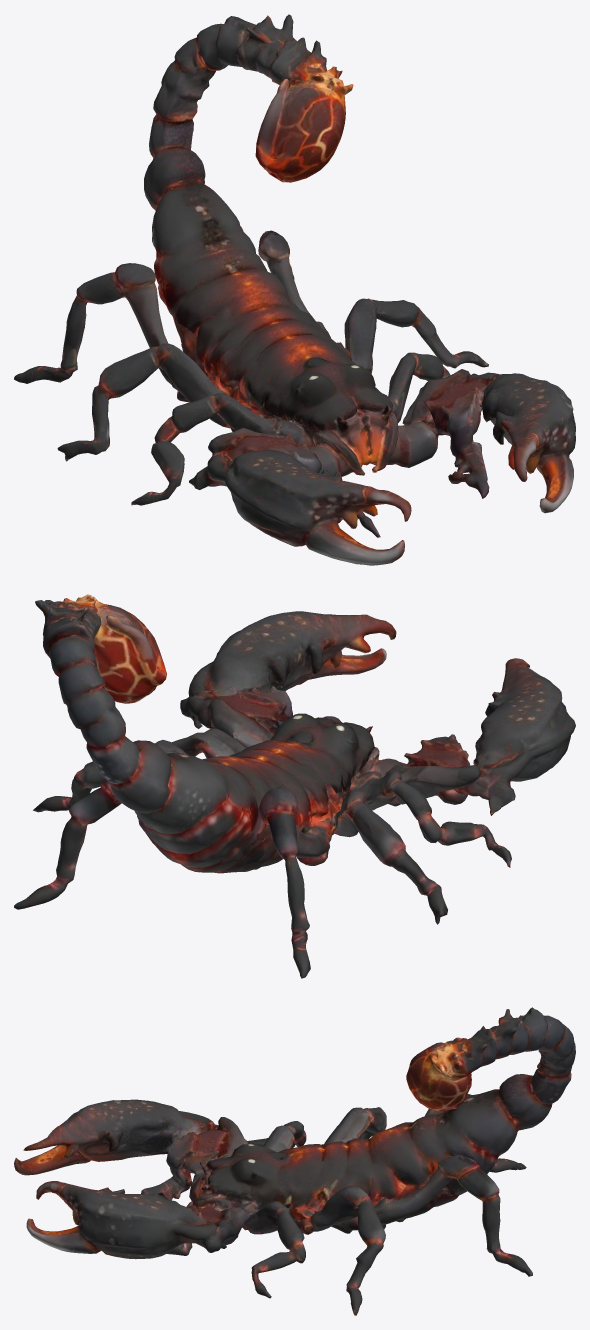
The model's file is Magma_Scorpion_final.glb.
3 views of the same model, one above another, from view 1: azimuth 30°, elevation 25°; view 2: azimuth 150°, elevation 25°; view 3: azimuth 270°, elevation 25° (orthographic). The views are drawn at different scales.
Parts seen in each view (by area): view 1: Mesh_0; view 2: Mesh_0; view 3: Mesh_0.
Boxes of the visible parts, x1=… form: Mesh_0: x1=14, y1=14, x2=575, y2=565; Mesh_0: x1=14, y1=594, x2=575, y2=978; Mesh_0: x1=14, y1=1007, x2=575, y2=1315.
Size of the model in its own units: 2.83 by 2 by 4.04.
Materials: 1 (1 with a texture image).
